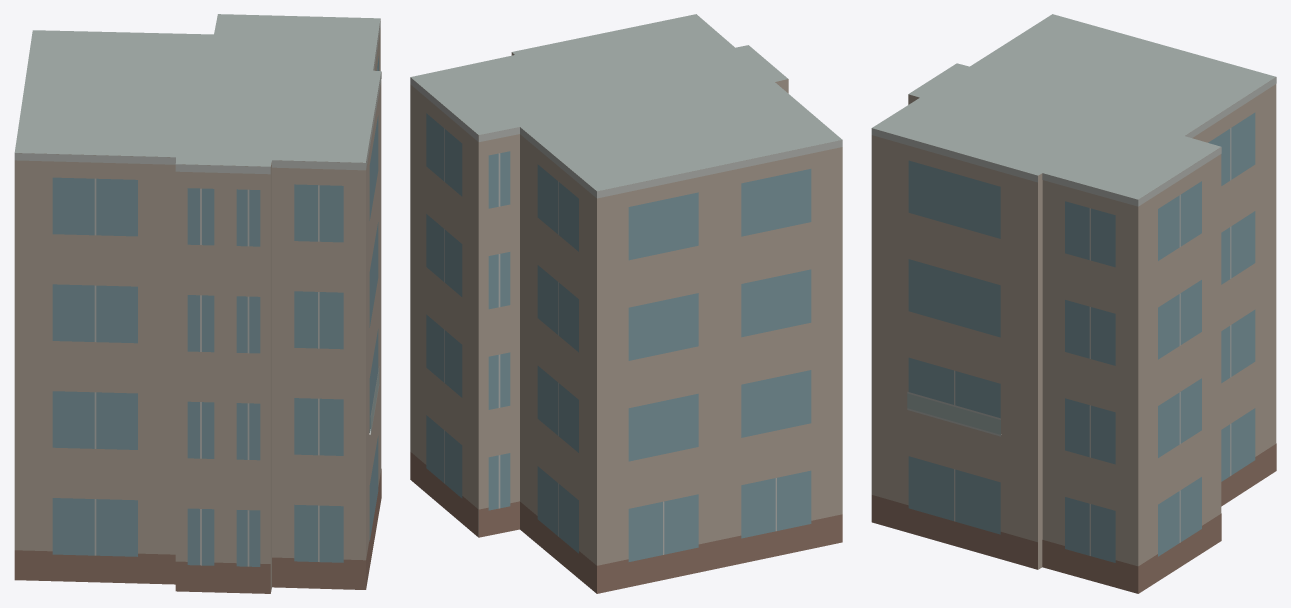
File: survey-upis-32544898.glb
The picture shows the model from 3 angles, left to right: view 1: azimuth 30°, elevation 25°; view 2: azimuth 150°, elevation 25°; view 3: azimuth 270°, elevation 25°; orthographic projection. The views are drawn at different scales.
Visible parts, largest first — view 1: survey-upis-32544898.tmp; view 2: survey-upis-32544898.tmp; view 3: survey-upis-32544898.tmp.
Part boxes in pixels (left/top/right/bottom): survey-upis-32544898.tmp: left=14, top=14, right=381, bottom=593; survey-upis-32544898.tmp: left=410, top=14, right=842, bottom=593; survey-upis-32544898.tmp: left=871, top=14, right=1276, bottom=593.
Size of the model in its own units: 14.01 by 13.86 by 12.91.
